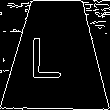L_N: (39, 29, 74, 80)
